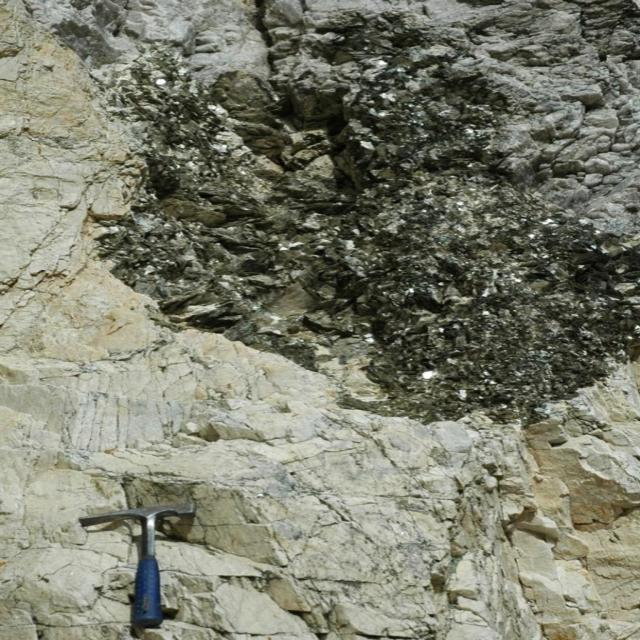hammer: (81, 506, 197, 640)
